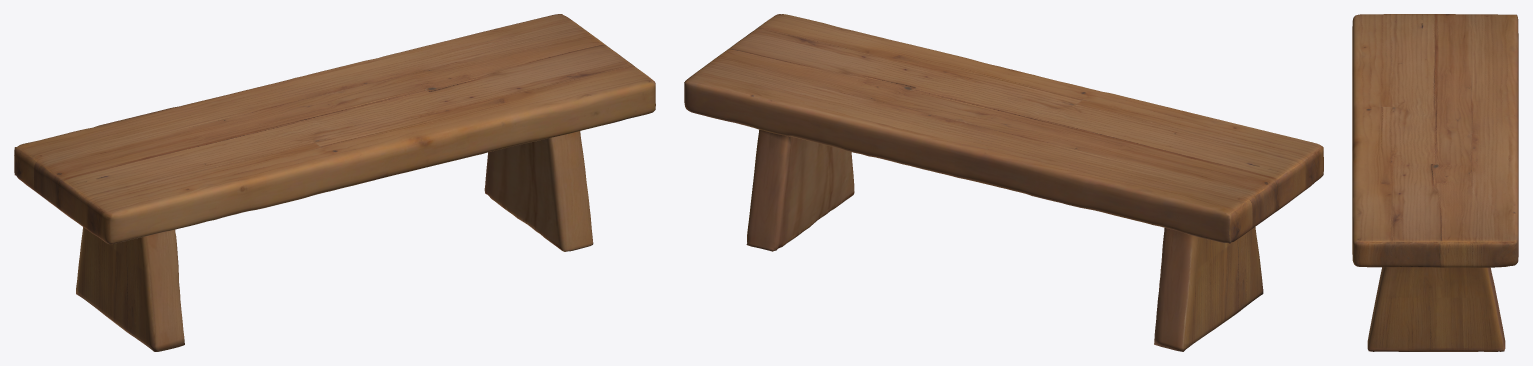
File: Banca_de_madera__0508042822_texture.fbx
The picture shows the model from 3 angles, left to right: view 1: azimuth 30°, elevation 25°; view 2: azimuth 150°, elevation 25°; view 3: azimuth 270°, elevation 25°; orthographic projection. The views are drawn at different scales.
Parts seen in each view (by area): view 1: input; view 2: input; view 3: input.
Boxes of the visible parts, box(x1,y1,x2,y2) form: input: box(14, 14, 655, 351); input: box(684, 14, 1323, 351); input: box(1352, 14, 1518, 351).
Size of the model in its own units: 200 by 54.93 by 61.23.
Materials: 1 (1 with a texture image).
